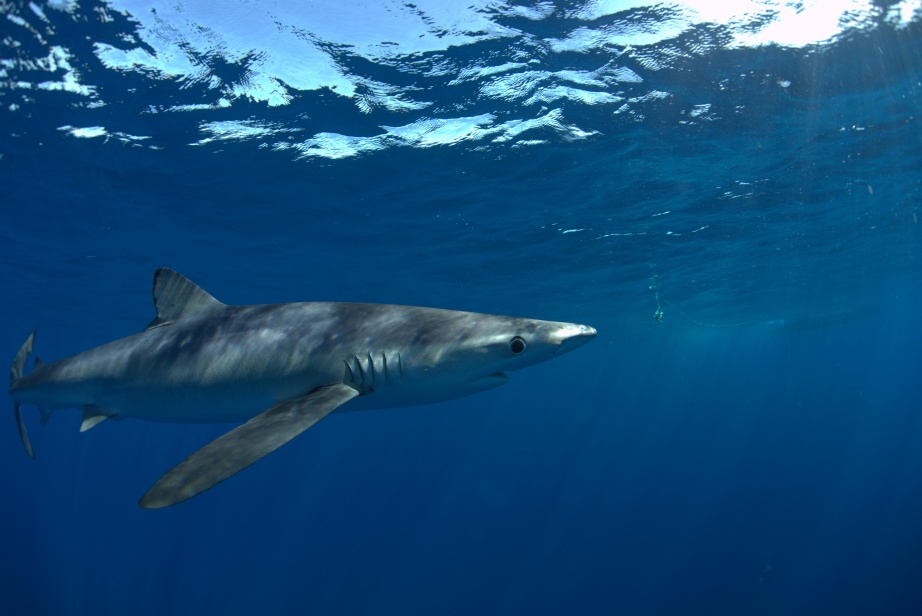Azul: (5, 229, 627, 529)
